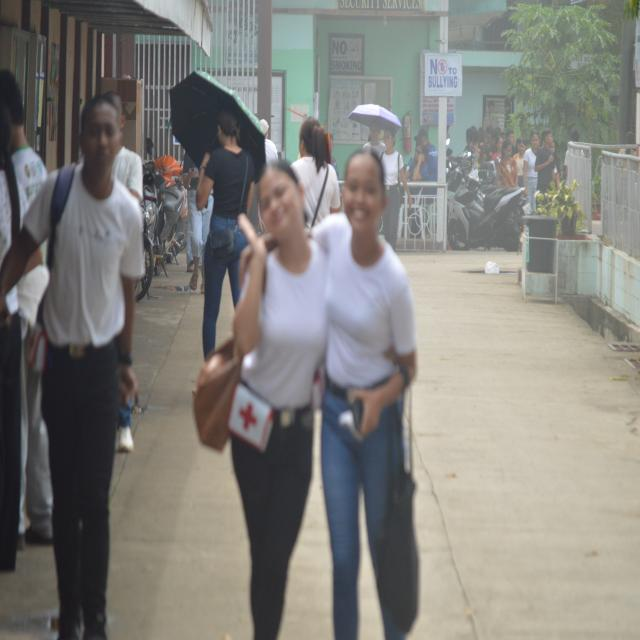person: (0, 96, 143, 639), (313, 152, 416, 639), (232, 161, 328, 639), (196, 111, 254, 356), (18, 250, 52, 547), (0, 287, 21, 571), (292, 118, 340, 226), (380, 130, 412, 250), (523, 131, 539, 211), (535, 128, 554, 193), (497, 139, 517, 188), (260, 120, 278, 163), (363, 124, 385, 157), (515, 138, 526, 187)
